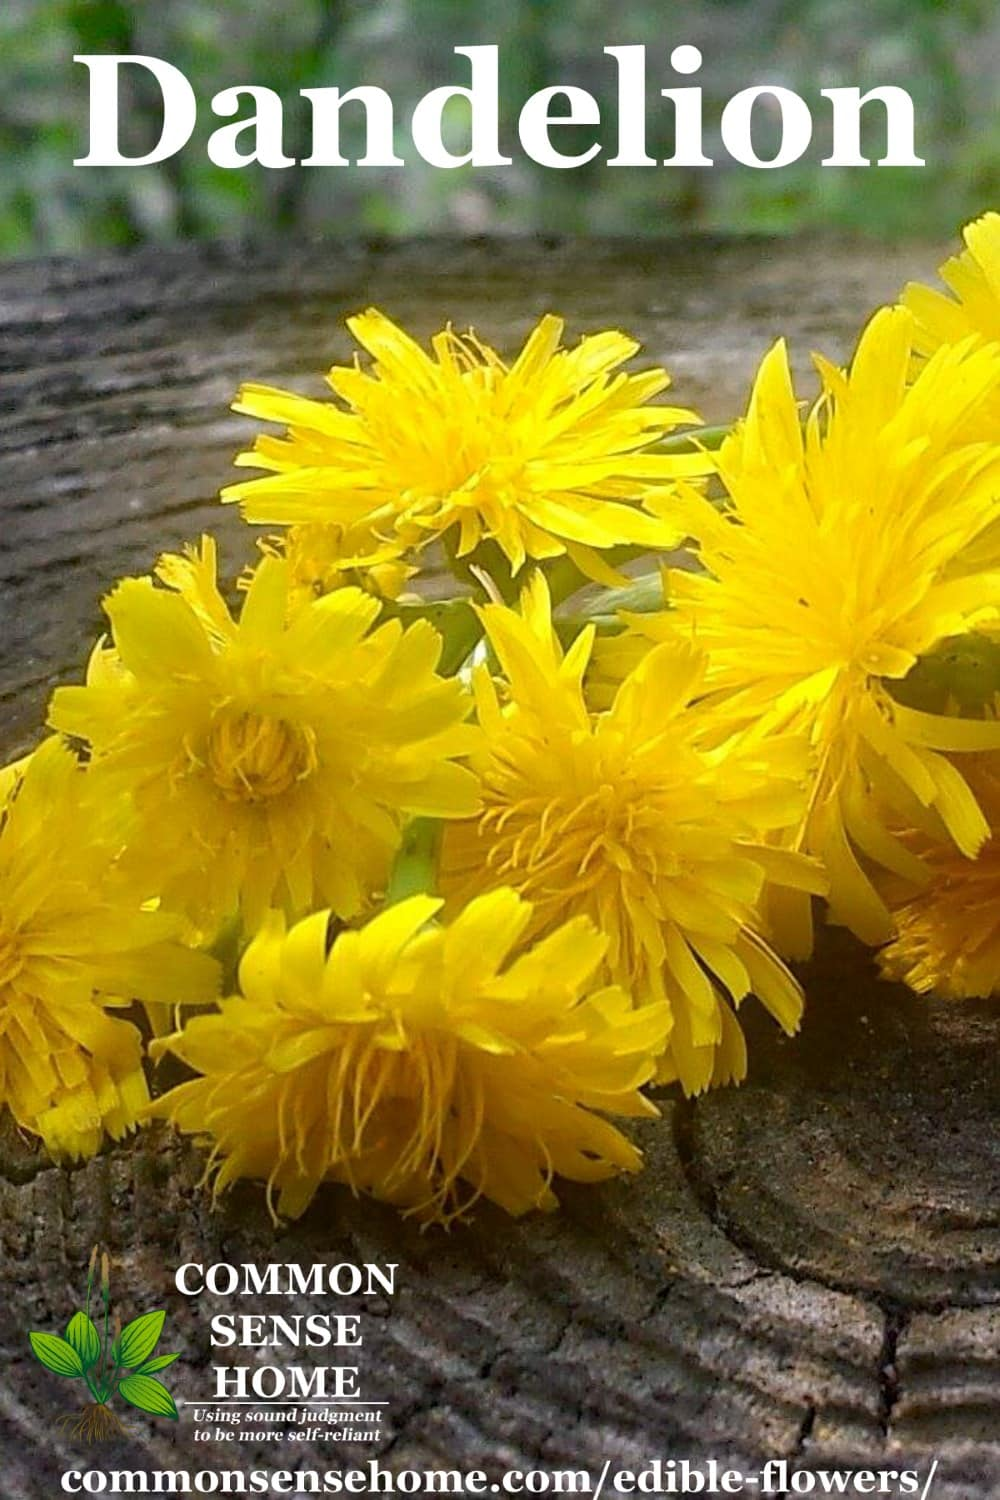dandelion: (731, 234, 1000, 1045), (206, 927, 633, 1225), (243, 305, 690, 578), (108, 586, 427, 907), (485, 648, 717, 907)
